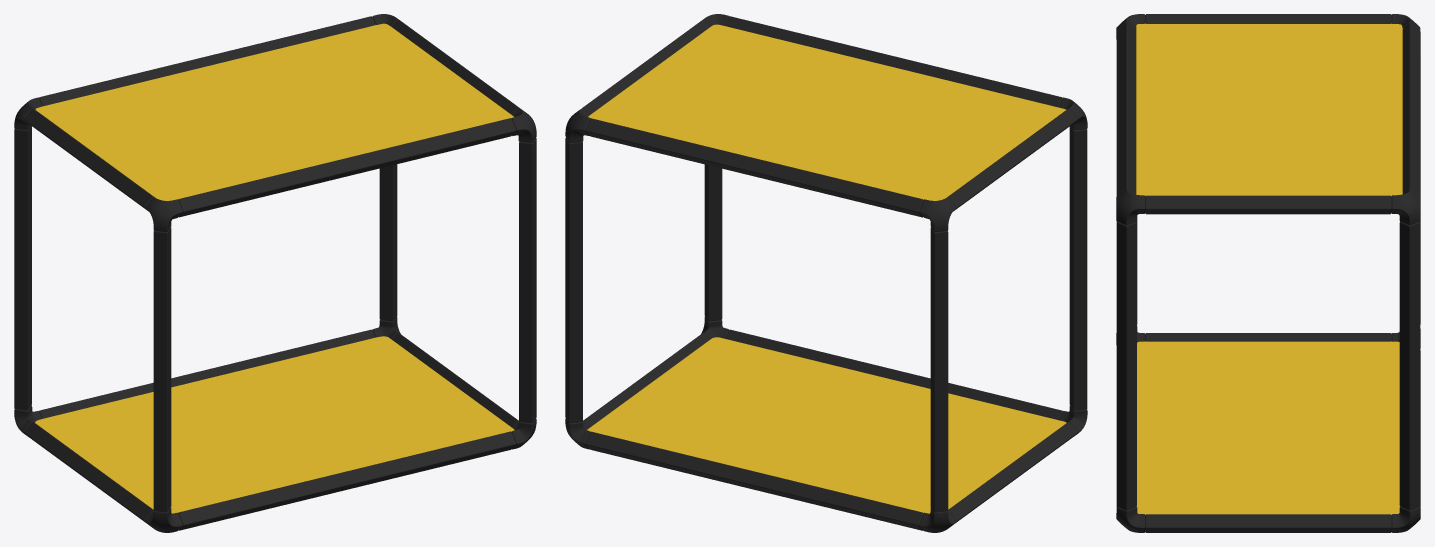
The picture shows the model from 3 angles, left to right: view 1: azimuth 30°, elevation 25°; view 2: azimuth 150°, elevation 25°; view 3: azimuth 270°, elevation 25°; orthographic projection.
Parts seen in each view (by area): view 1: 523x329x420; view 2: 523x329x420; view 3: 523x329x420.
Part boxes in pixels (x1=…): 523x329x420: x1=14, y1=14, x2=536, y2=532; 523x329x420: x1=565, y1=14, x2=1087, y2=532; 523x329x420: x1=1116, y1=14, x2=1420, y2=532.
Size of the model in its own units: 0.6007 by 0.4976 by 0.4063.
